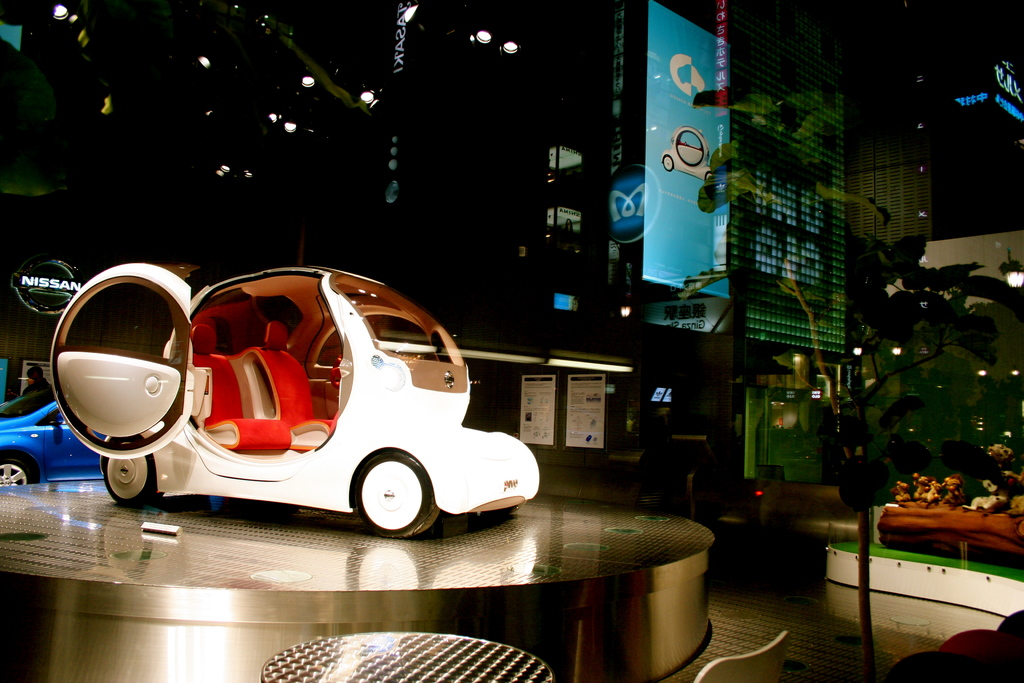Car: (46, 260, 538, 538), (0, 388, 106, 486)
